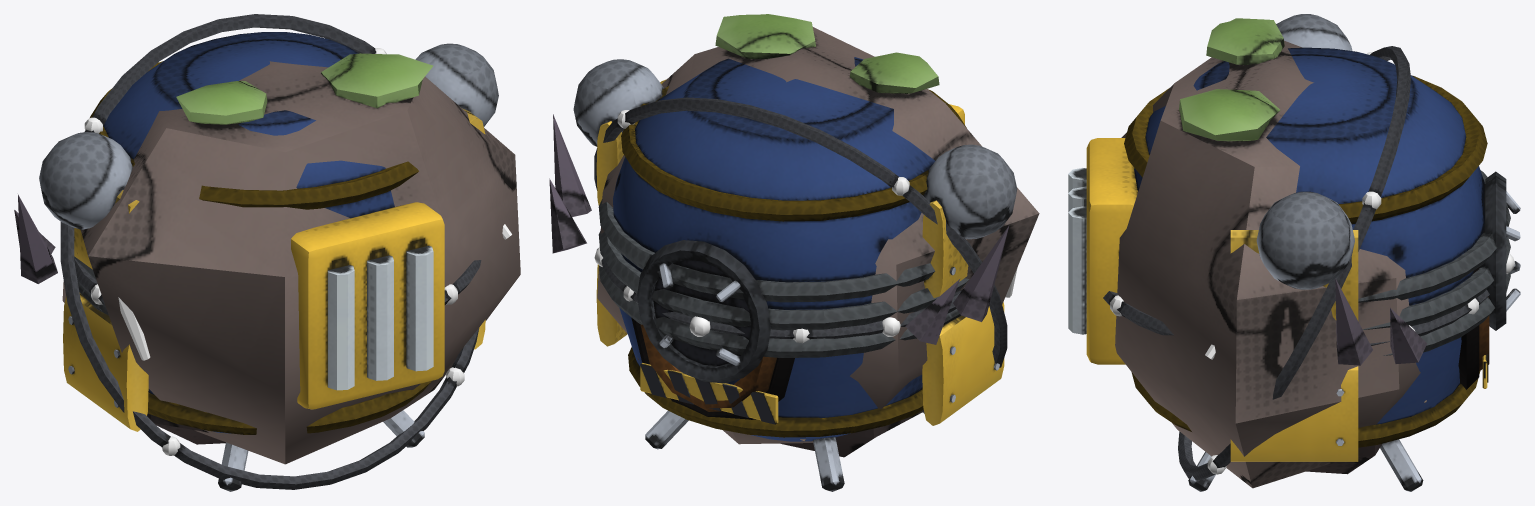
The model's file is Bosses2.fbx.
3 views of the same model, side by side, from view 1: azimuth 30°, elevation 25°; view 2: azimuth 150°, elevation 25°; view 3: azimuth 270°, elevation 25° (orthographic). The views are drawn at different scales.
Visible parts, largest first — view 1: QuarryTitan_Hull.001, StormColossus_Hull.001, SwarmQueen_RingB_Hull.001, StormColossus_Plates2.001, QuarryTitan_Plates3.001, SwarmQueen_RingA_Hull.001, QuarryTitan_Glow.001, SwarmQueen_RingB_Glow.001; view 2: StormColossus_Hull.001, QuarryTitan_Hull.001, StormColossus_Plates2.001, SwarmQueen_RingB_Hull.001, QuarryTitan_Plates3.001, SwarmQueen_RingA_Hull.001, StormColossus_Glow.001; view 3: StormColossus_Hull.001, QuarryTitan_Hull.001, StormColossus_Plates2.001, SwarmQueen_RingB_Hull.001, QuarryTitan_Plates3.001, SwarmQueen_RingA_Hull.001.
Part boxes in pixels (x1,y1,x2,y2): QuarryTitan_Hull.001: (62, 53, 520, 464); StormColossus_Hull.001: (39, 32, 498, 491); SwarmQueen_RingB_Hull.001: (60, 14, 479, 489); StormColossus_Plates2.001: (63, 108, 485, 431); QuarryTitan_Plates3.001: (14, 194, 57, 283); SwarmQueen_RingA_Hull.001: (74, 258, 481, 305); QuarryTitan_Glow.001: (118, 224, 511, 360); SwarmQueen_RingB_Glow.001: (84, 48, 464, 455); StormColossus_Hull.001: (573, 57, 1017, 491); QuarryTitan_Hull.001: (597, 14, 1039, 457); StormColossus_Plates2.001: (596, 79, 1004, 425); SwarmQueen_RingB_Hull.001: (594, 97, 1007, 367); QuarryTitan_Plates3.001: (549, 114, 1009, 344); SwarmQueen_RingA_Hull.001: (601, 258, 961, 339); StormColossus_Glow.001: (594, 247, 900, 336); StormColossus_Hull.001: (1068, 14, 1520, 491); QuarryTitan_Hull.001: (1115, 18, 1489, 488); StormColossus_Plates2.001: (1230, 230, 1358, 461); SwarmQueen_RingB_Hull.001: (1178, 46, 1410, 480); QuarryTitan_Plates3.001: (1335, 278, 1427, 365); SwarmQueen_RingA_Hull.001: (1103, 289, 1489, 345).
Bounding box in the file's own units: 60 × 48.45 × 49.52.
4 materials, 3 textured.
